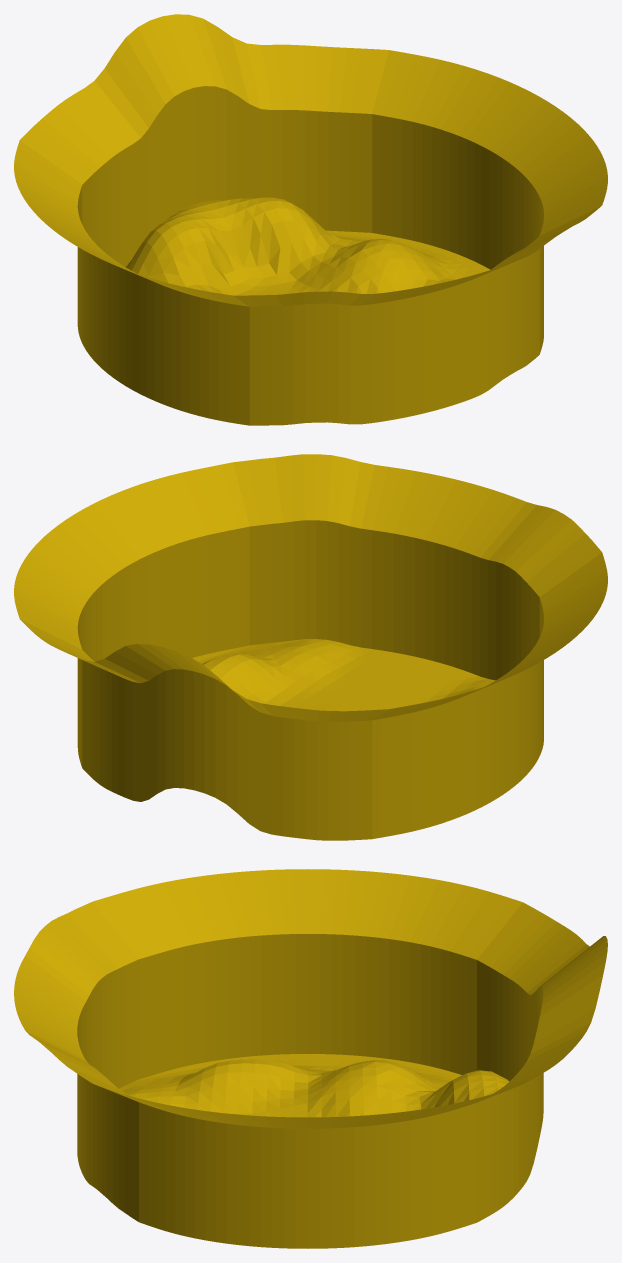
File: World.glb
3 views of the same model, one above another, from view 1: azimuth 30°, elevation 25°; view 2: azimuth 150°, elevation 25°; view 3: azimuth 270°, elevation 25° (orthographic).
Parts seen in each view (by area): view 1: Plane; view 2: Plane; view 3: Plane.
Part boxes in pixels (x1,y1,x2,y2): Plane: (14,14,607,425); Plane: (14,454,607,840); Plane: (14,869,607,1248).
Bounding box in the file's own units: 146 × 56.64 × 148.
